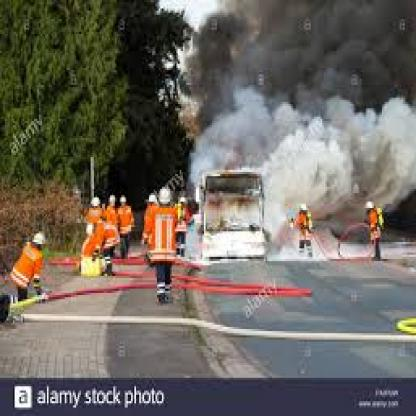fire: (244, 110, 401, 210), (224, 16, 398, 96), (236, 78, 359, 178)
